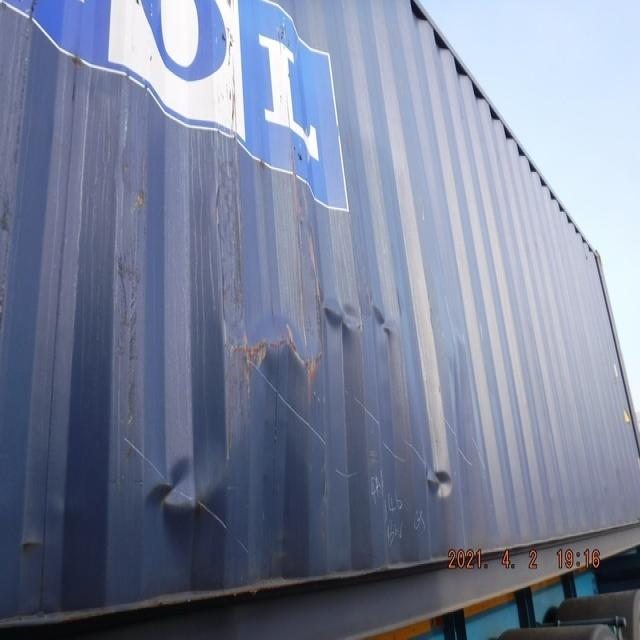dent: (237, 236, 414, 527), (133, 436, 236, 569), (433, 284, 480, 420), (422, 455, 459, 524)
